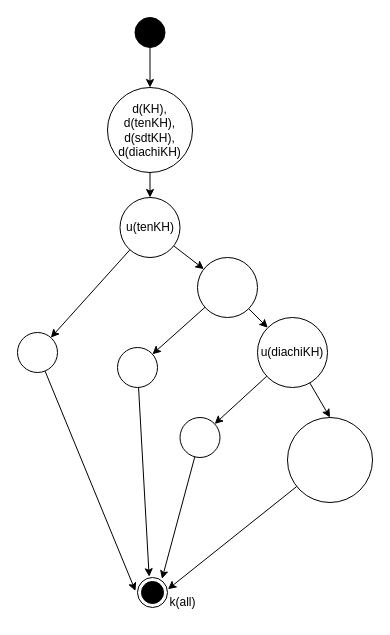
The diagram is 390 pixels wide and 635 high, and some of its shapes have lost their labels. Here are the shapes that lost their labels. From the top down, the centre of each, then its label:
point 227,287: u(sdtKH)
point 329,459: u(KH), u(tenKH), u(sdtKH), u(diachiKH)
